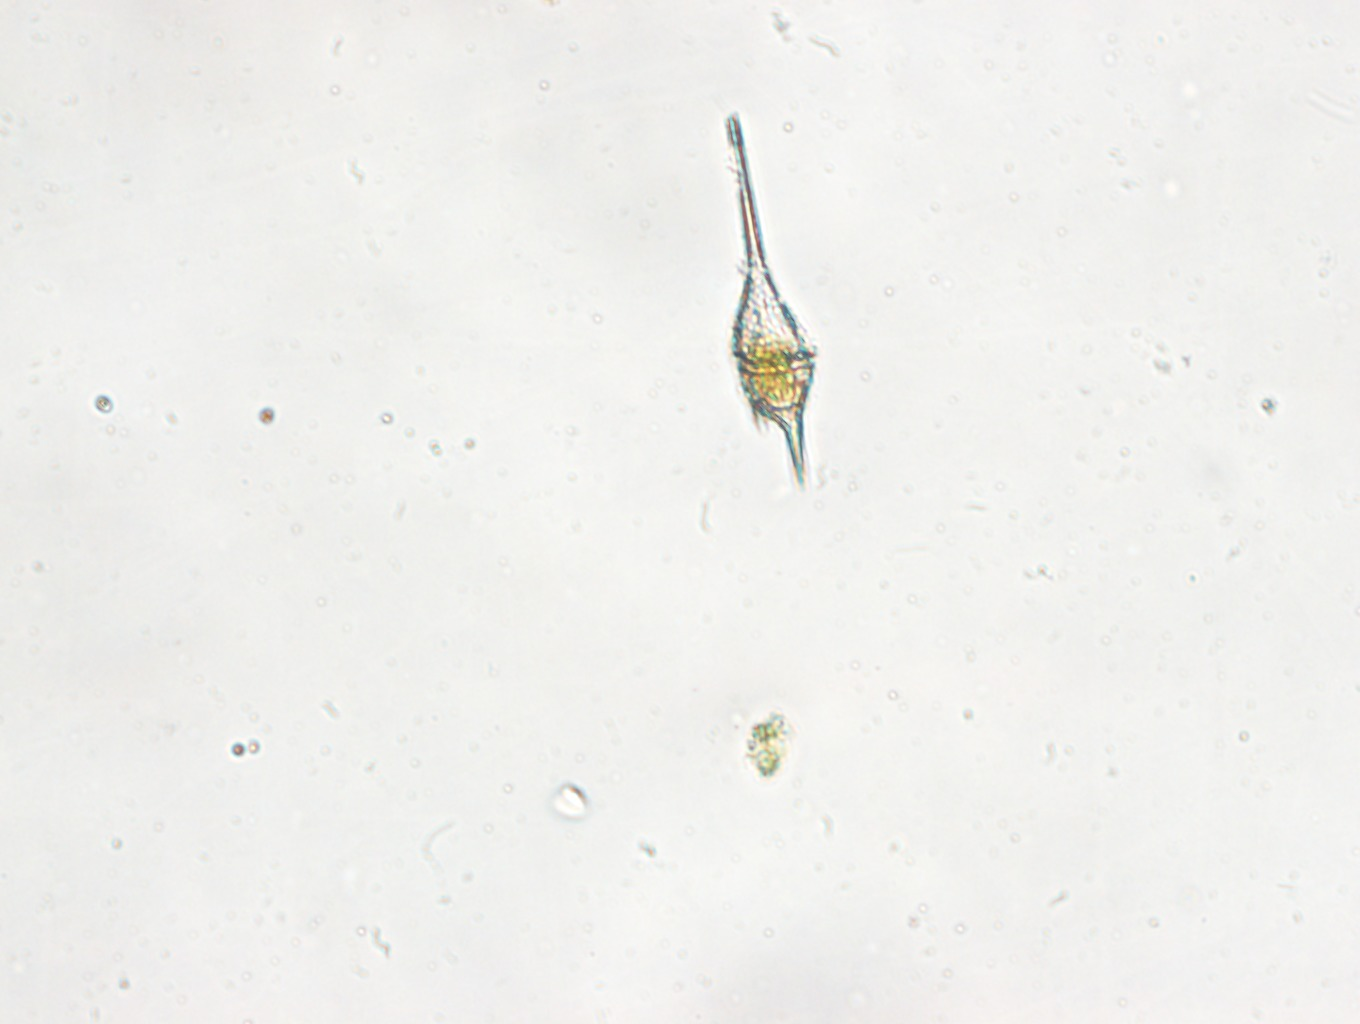ceratium furca: (722, 108, 820, 496)
